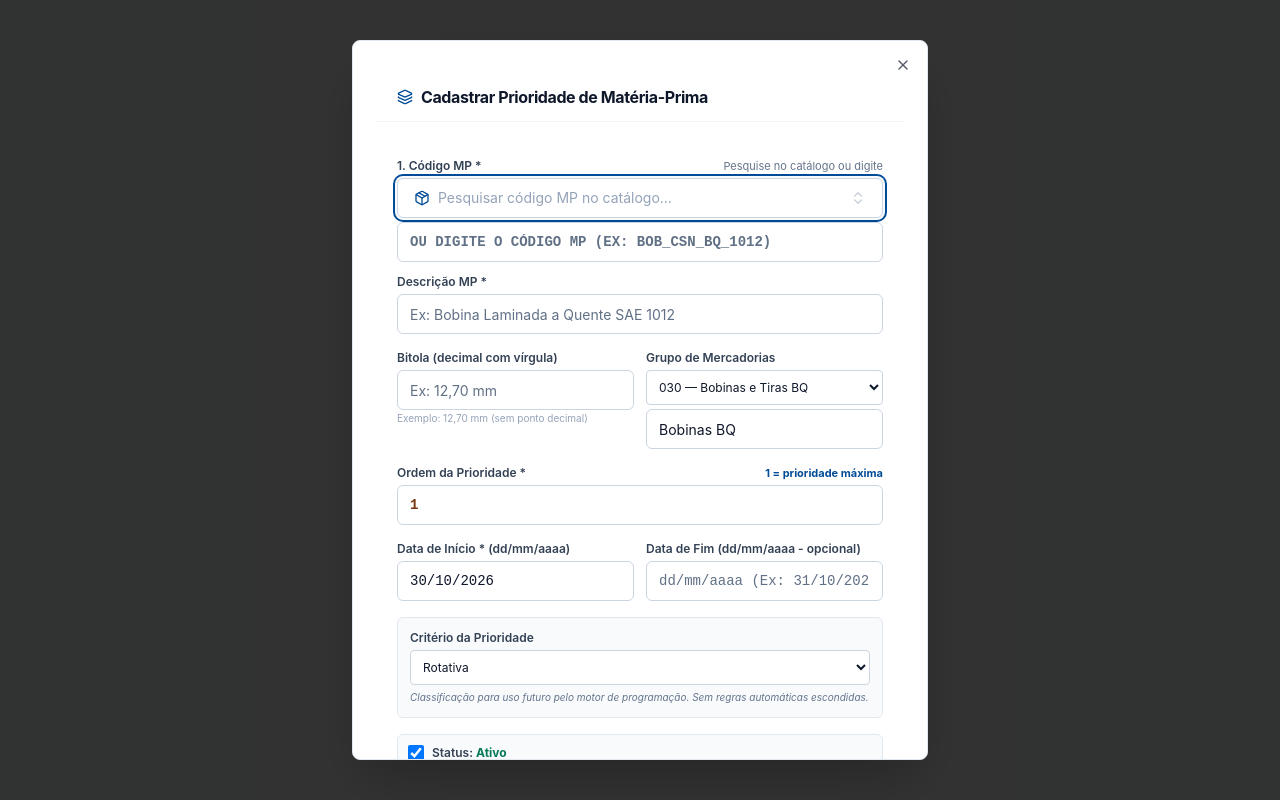
Scenario: Prioridades de Matéria-Prima — 13 Critérios de Aceite › Critério 11: Data fim < Data início exibe erro "A data fim deve ser igual ou posterior à data de início."
Type "BOB_TESTE" into the field with test id "input-raw-material-code" at (640, 242), box [397,222,883,262]
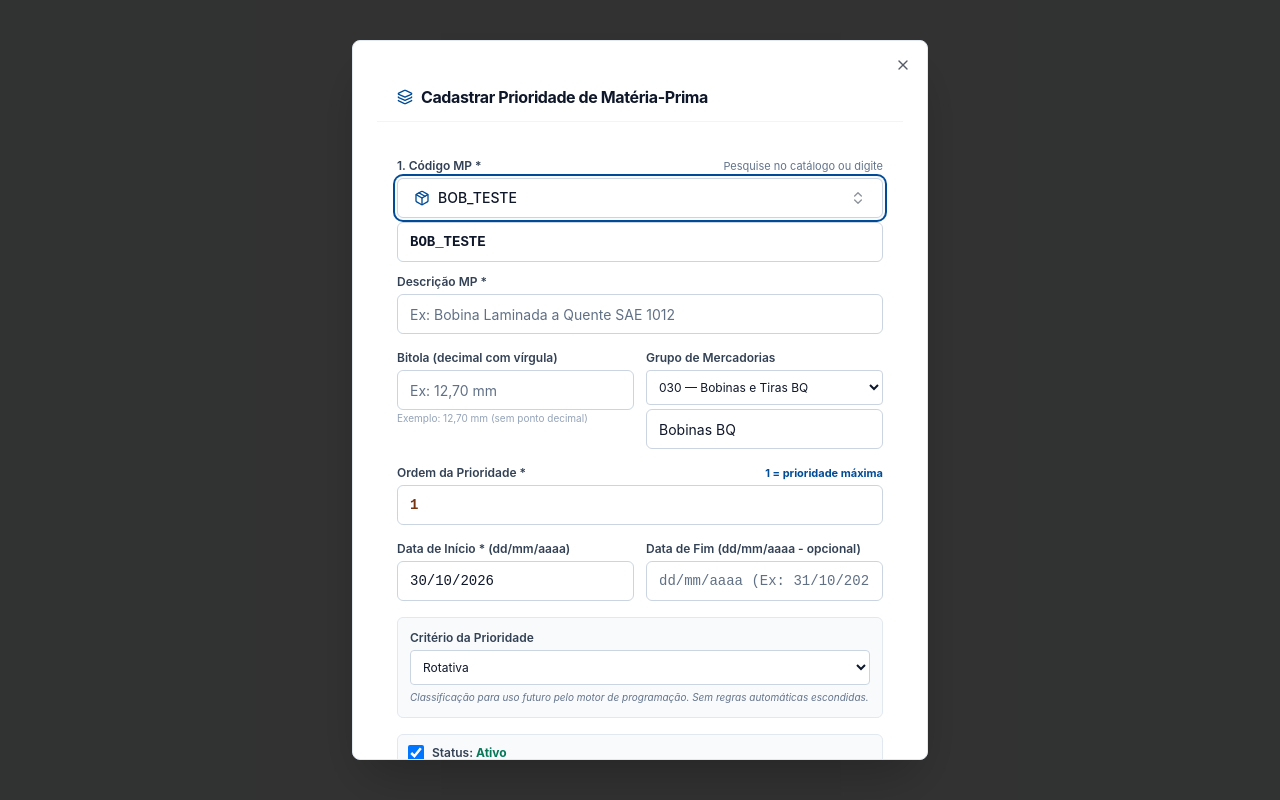
Type "Teste Desc" into the field with test id "input-raw-material-desc" at (640, 314), box [397,294,883,334]
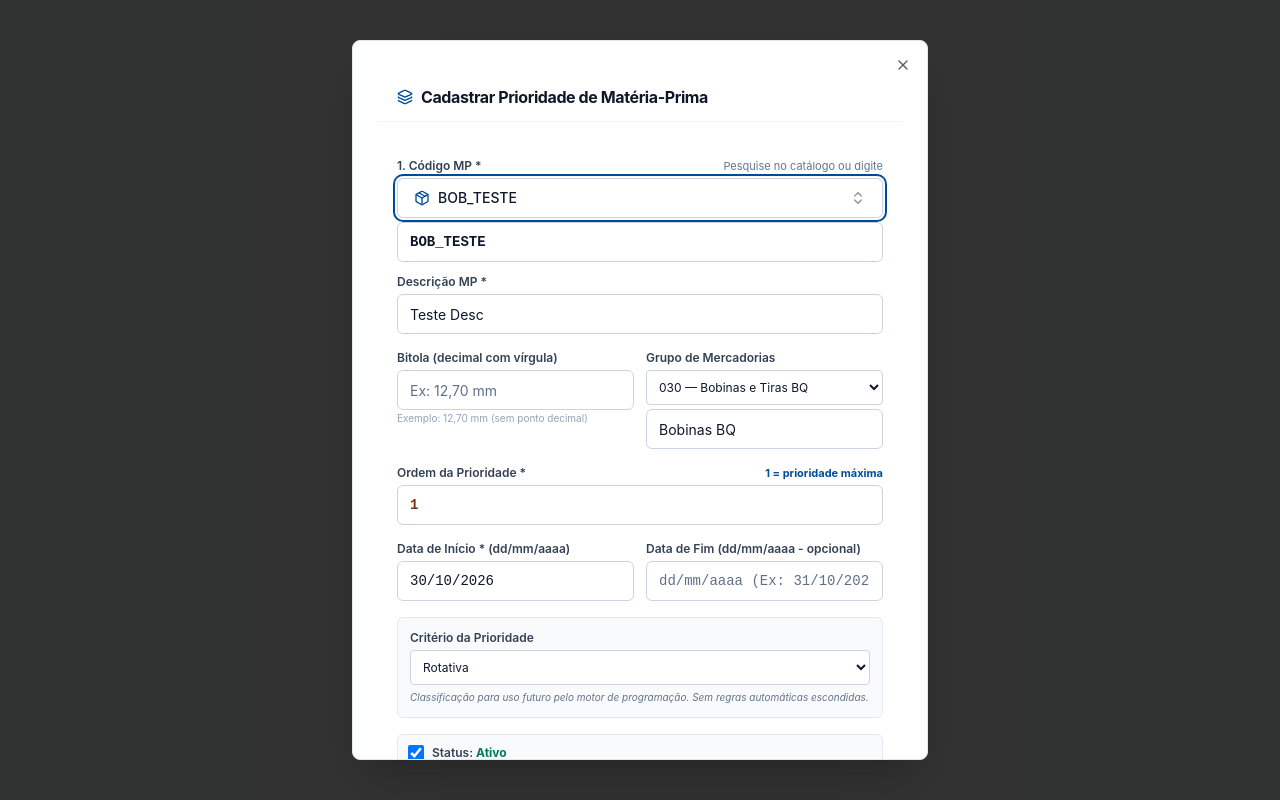
Replace the text in the field with test id "input-raw-material-valid-from" with "15/10/2026" at (516, 581), box [397,561,634,601]
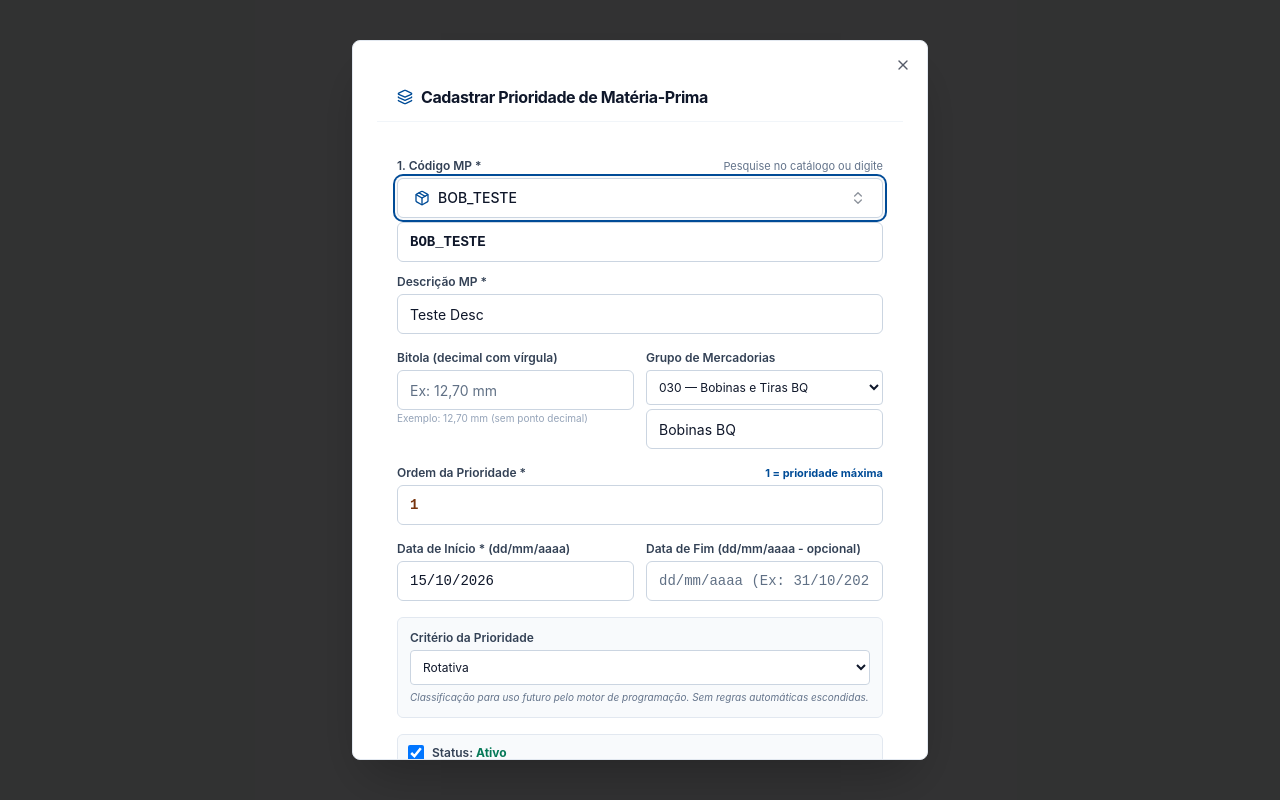
Type "10/10/2026" into the field with test id "input-raw-material-valid-until" at (764, 581), box [646,561,883,601]
(page scrolled)
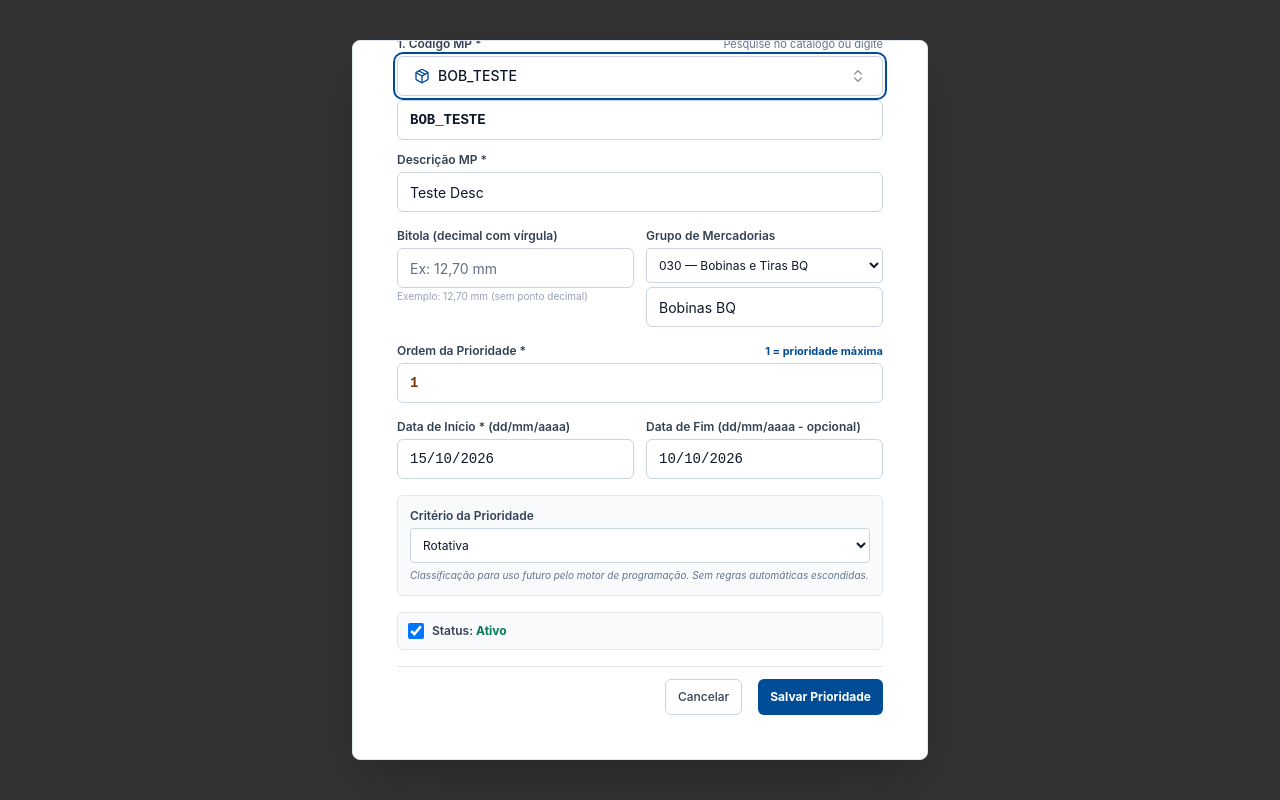
Click the button with test id "modal-save-btn" at (821, 697), box [758,679,883,715]
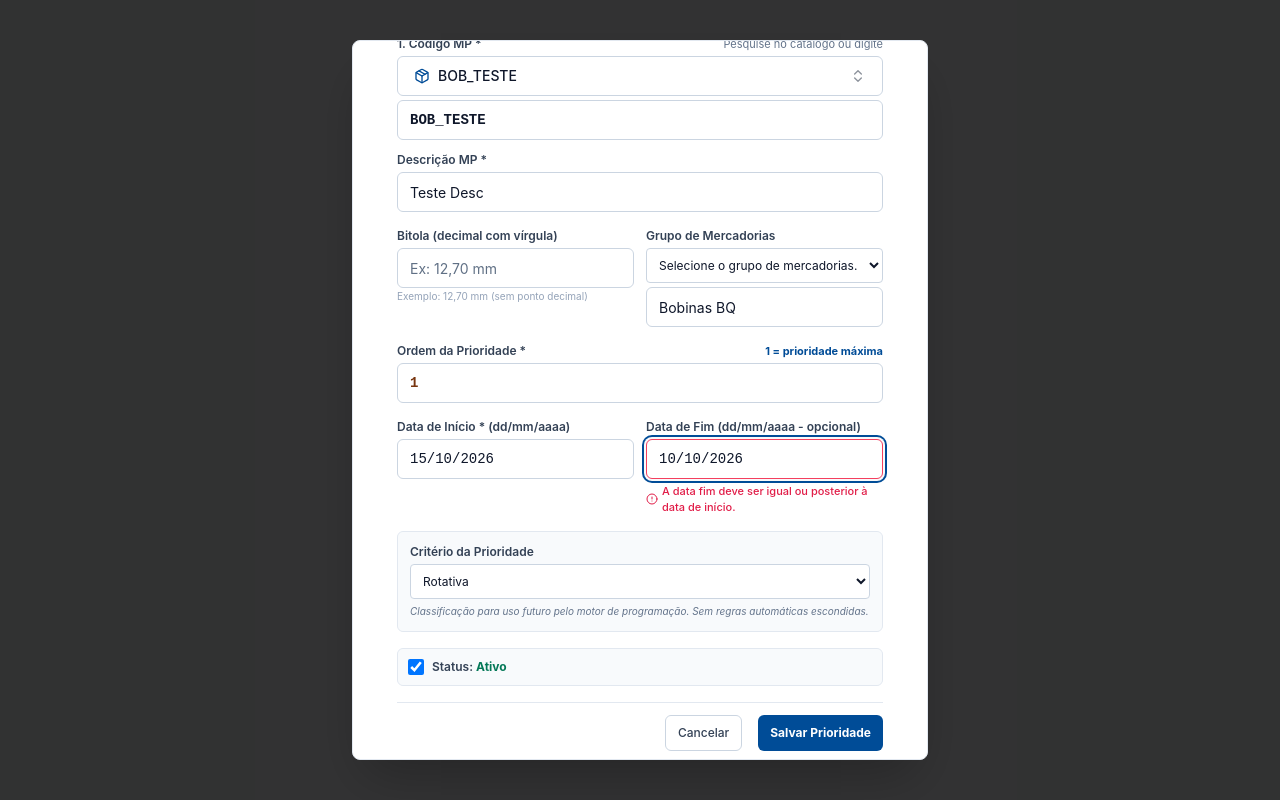
Expected: the text "A data fim deve ser igual ou posterior à data de início." is shown, [646,483,883,515]
